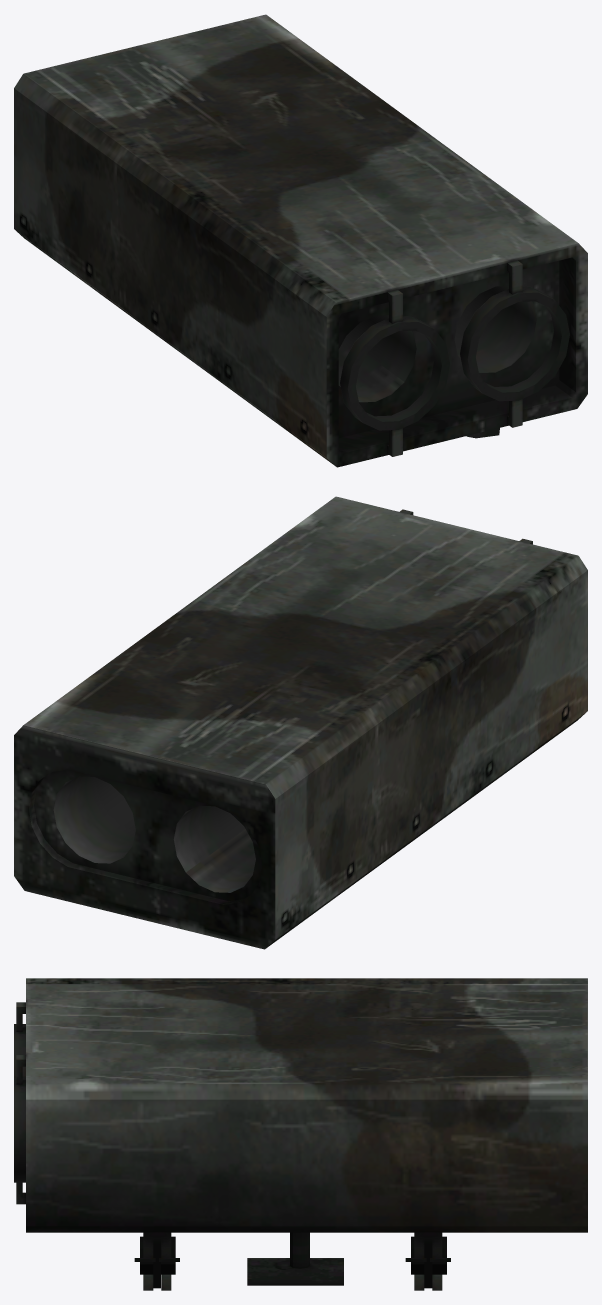
Rendered from rptt.FBX.
The picture shows the model from 3 angles, top to bottom: view 1: azimuth 30°, elevation 25°; view 2: azimuth 150°, elevation 25°; view 3: azimuth 270°, elevation 25°; orthographic projection. The views are drawn at different scales.
Parts seen in each view (by area): view 1: turret01; view 2: turret01; view 3: turret01.
Boxes of the visible parts, bbox=[...] form: turret01: bbox=[14, 14, 587, 467]; turret01: bbox=[14, 496, 587, 949]; turret01: bbox=[14, 978, 587, 1290].
Bounding box in the file's own units: 0.7239 × 0.5782 × 1.42.
